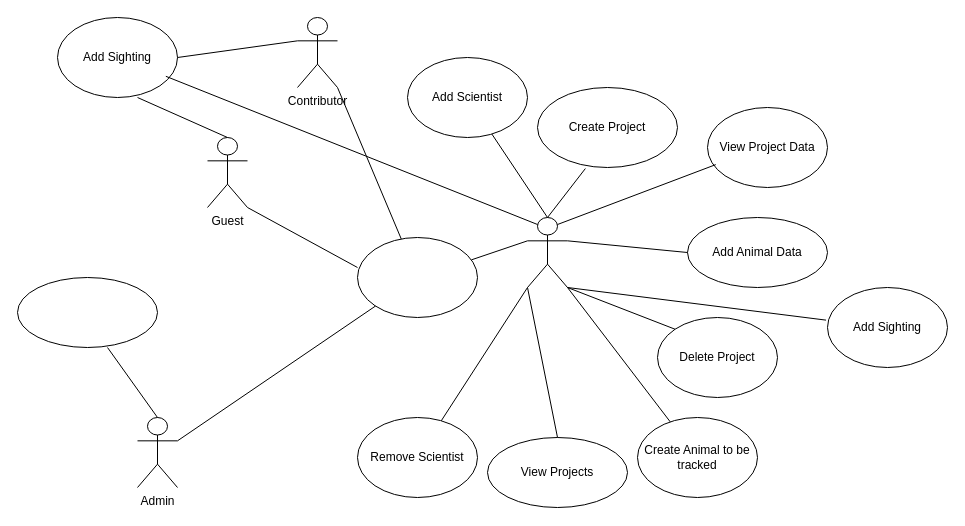
This 965x526 diagram has some shape labels left out. Each missing label, with the box of its shape:
Add User: (16, 276, 158, 348)
Login/Logout: (356, 236, 478, 318)
Scientist: (526, 216, 568, 288)
